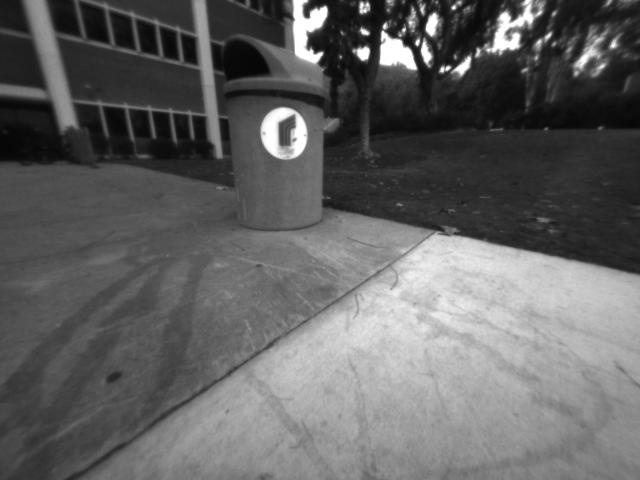trashcan: (218, 35, 343, 237)
